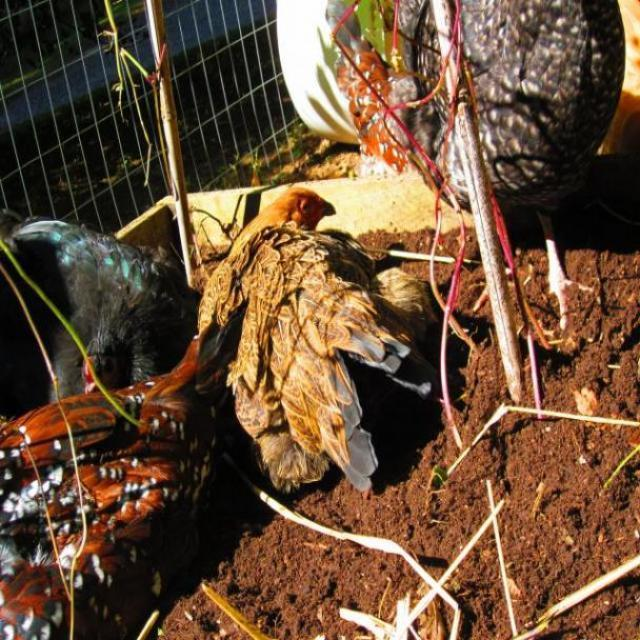Chicken: (206, 187, 441, 491), (6, 224, 189, 375)
